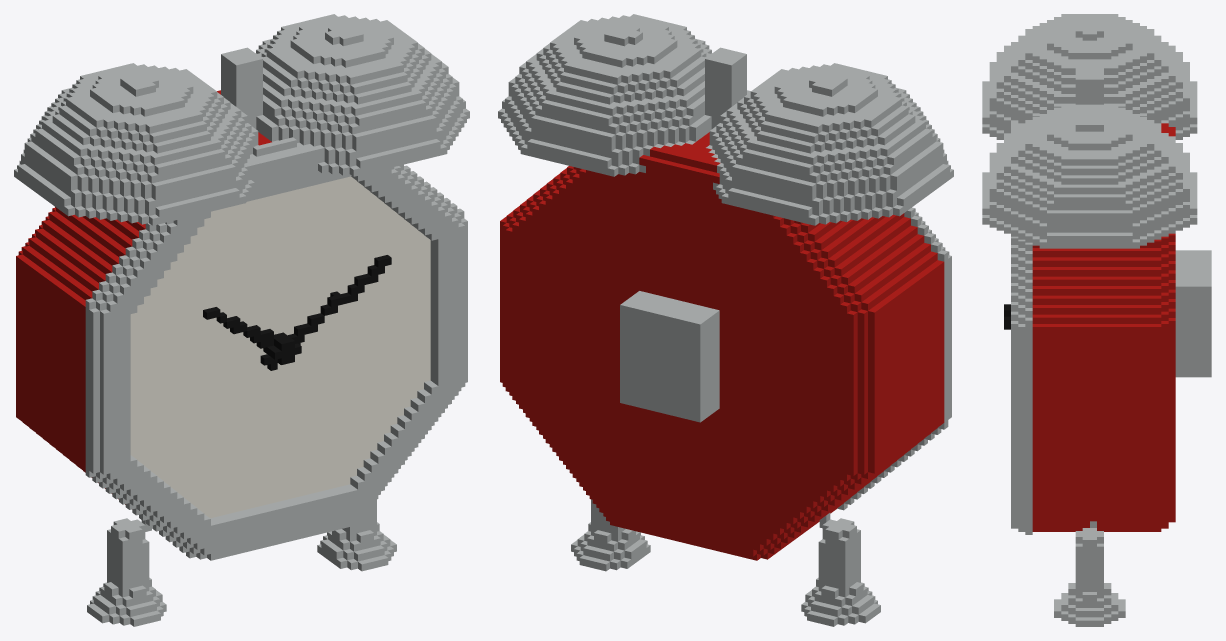
Rendered from clock.glb.
3 renders of one model, left to right at view 1: azimuth 30°, elevation 25°; view 2: azimuth 150°, elevation 25°; view 3: azimuth 270°, elevation 25°, orthographic. The views are drawn at different scales.
Parts seen in each view (by area): view 1: clock:compound; view 2: clock:compound; view 3: clock:compound.
Boxes of the visible parts, x1,y1,x2,y2 form: clock:compound: (14,14,469,626); clock:compound: (498,14,953,626); clock:compound: (982,14,1211,626).
Bounding box in the file's own units: 0.12 × 0.15 × 0.064.
